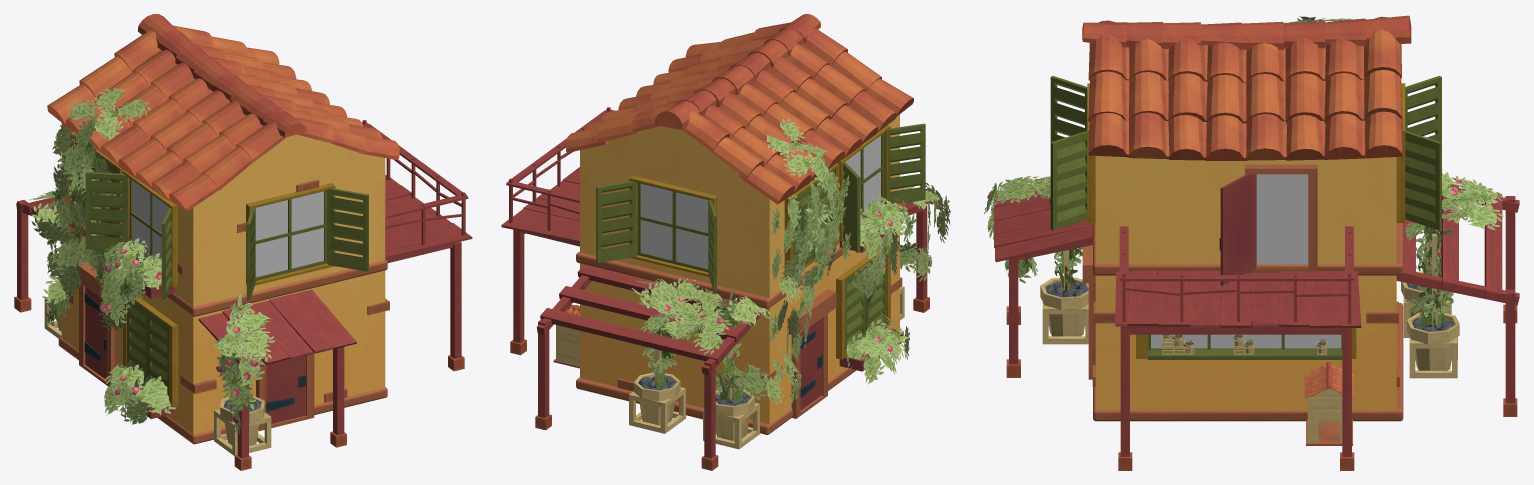
File: Long's house modular house 1.fbx
The picture shows the model from 3 angles, left to right: view 1: azimuth 30°, elevation 25°; view 2: azimuth 150°, elevation 25°; view 3: azimuth 270°, elevation 25°; orthographic projection. The views are drawn at different scales.
Visible parts, largest first — view 1: Cube.356; view 2: Cube.356; view 3: Cube.356.
Part boxes in pixels (x1,y1,x2,y2): Cube.356: (14,14,472,470); Cube.356: (501,14,950,470); Cube.356: (984,15,1519,470).
Size of the model in its own units: 1503 by 1316 by 1835.
